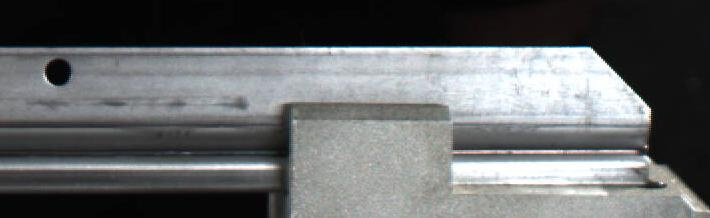cut: (485, 37, 664, 188)
holes: (42, 56, 73, 85)
